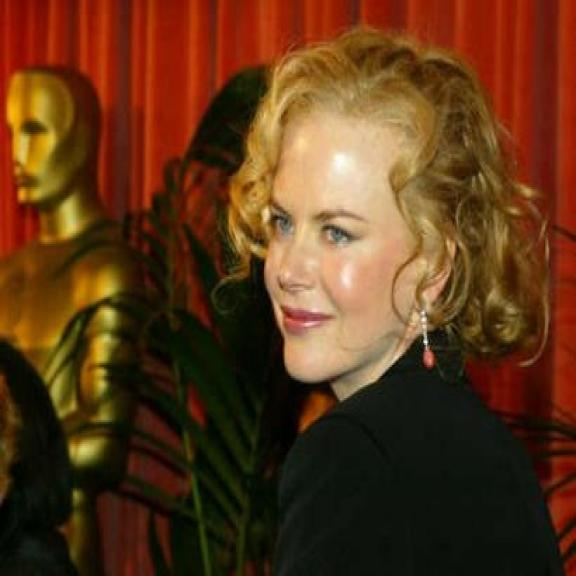face: (269, 109, 465, 393)
